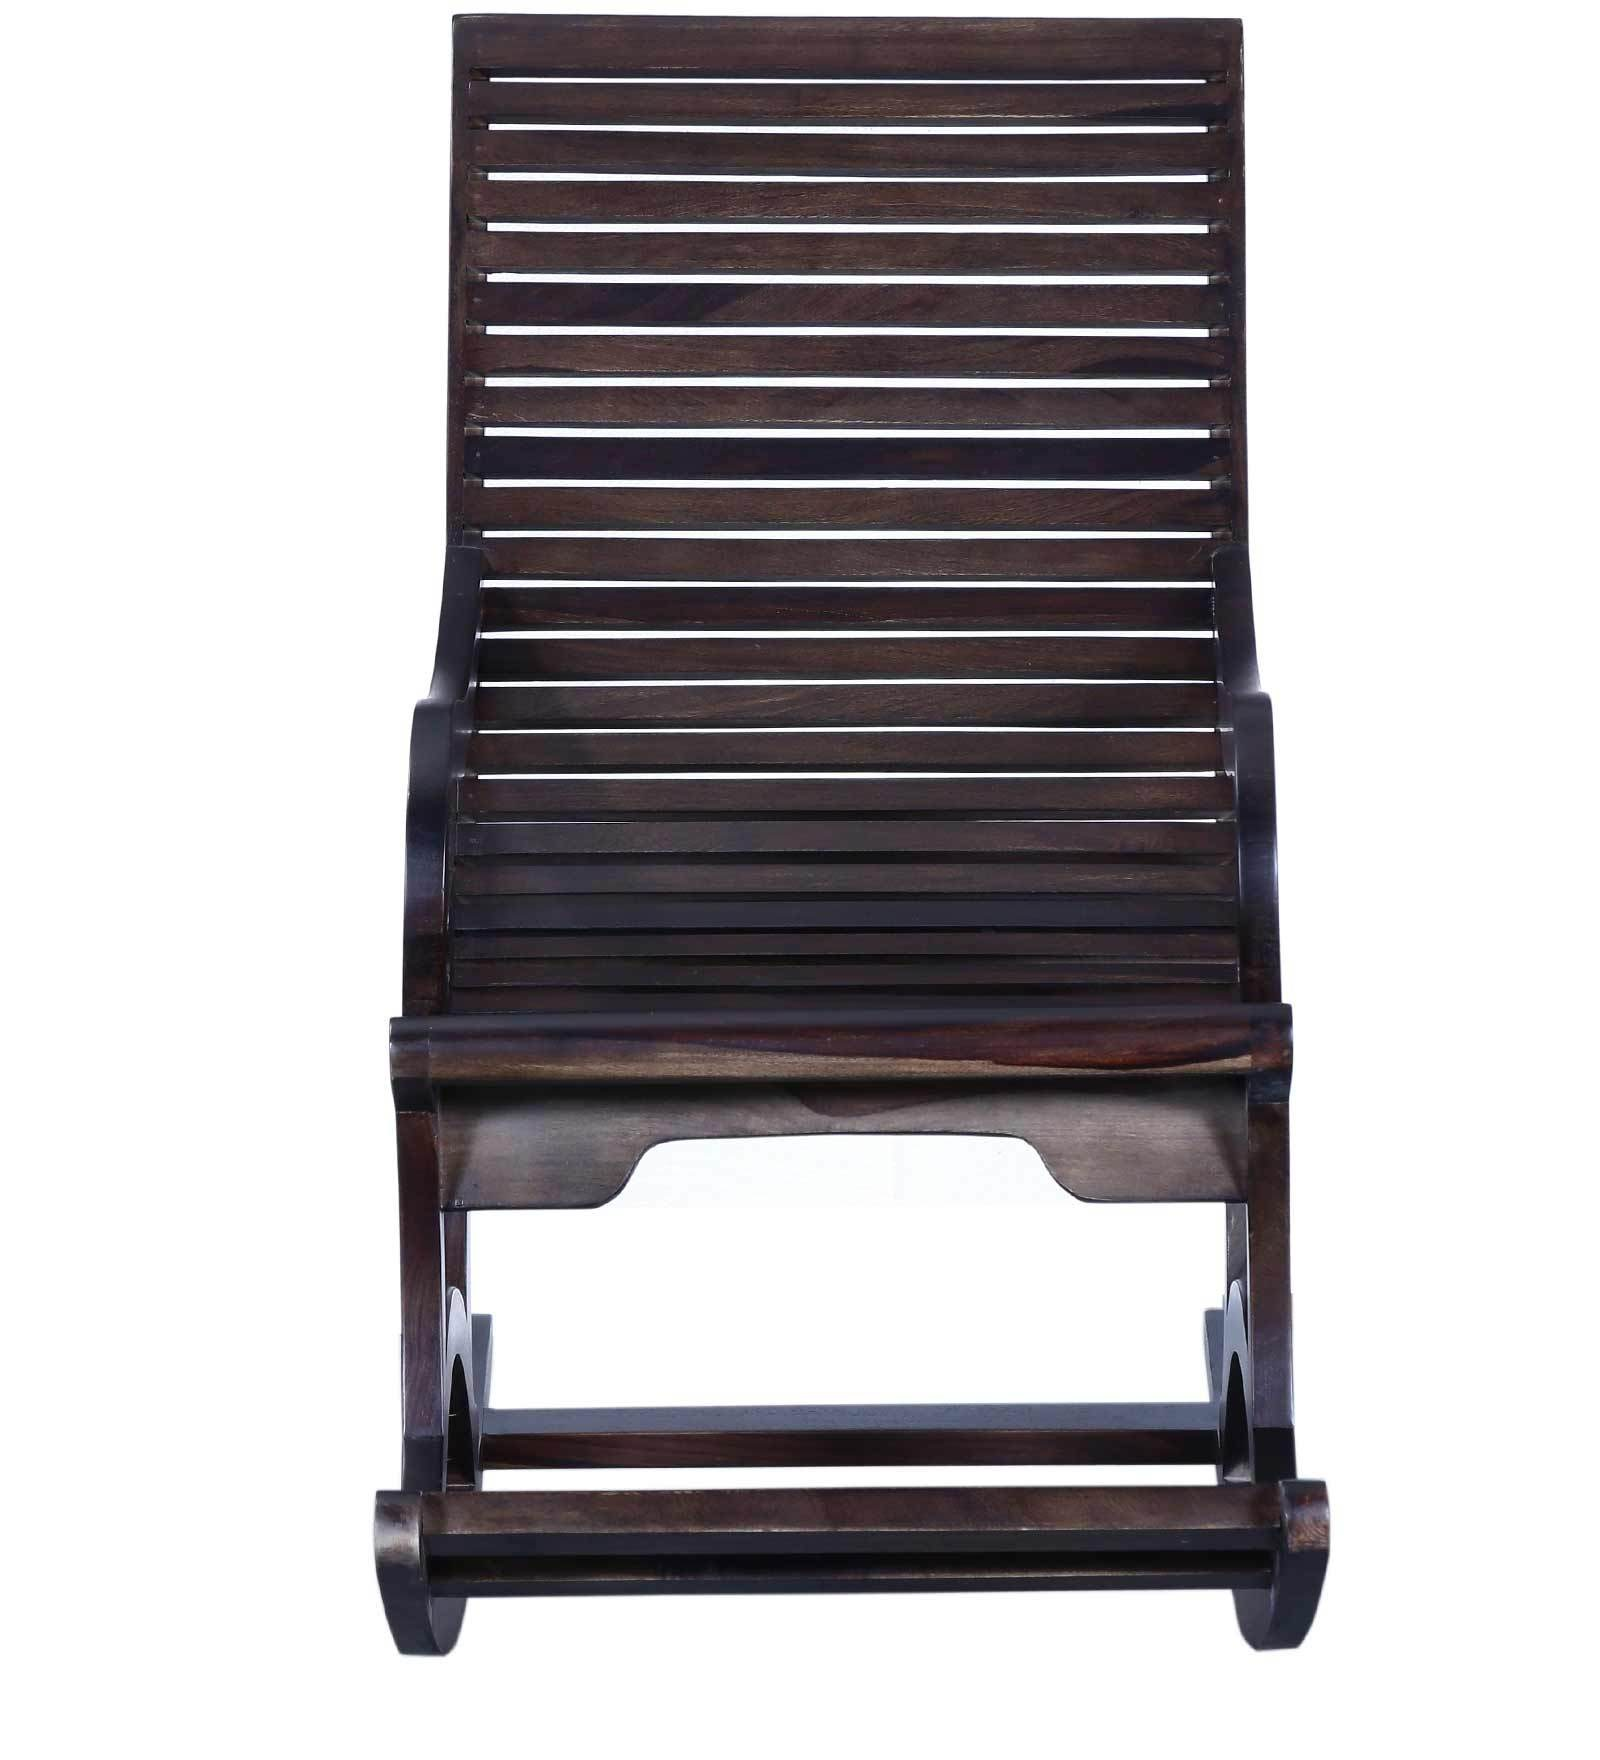Wellesley Rocking Chair in Warm Chestnut Finish by Amberville: (339, 23, 1405, 1676)
